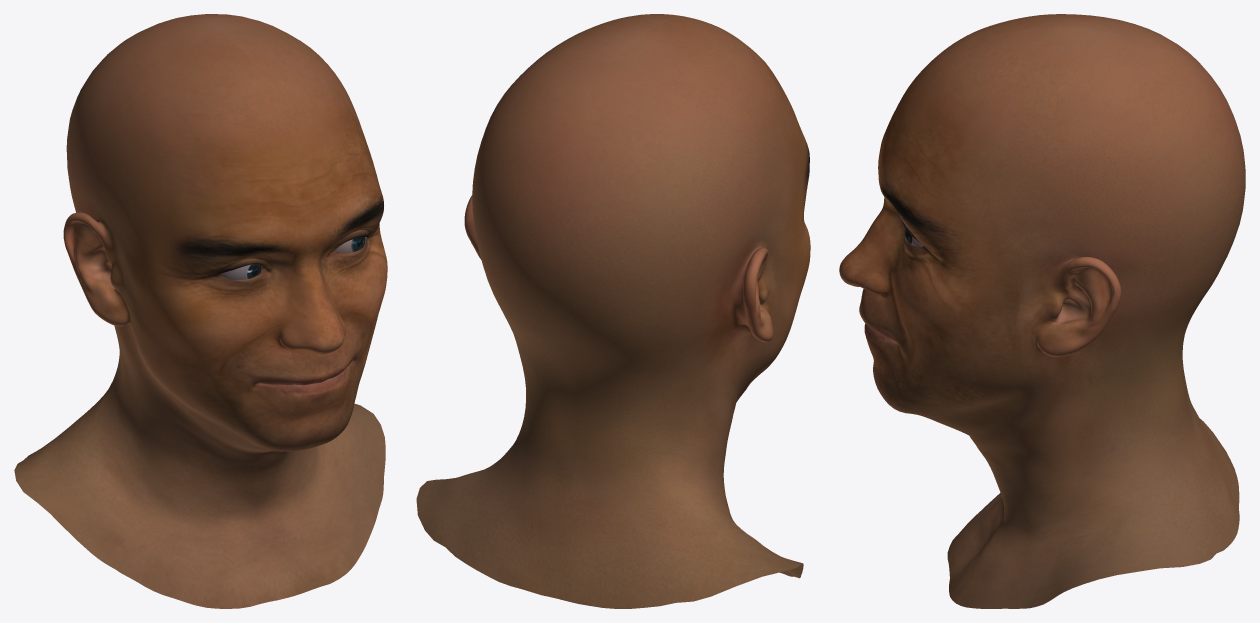
Rendered from full.gltf.
The picture shows the model from 3 angles, left to right: view 1: azimuth 30°, elevation 25°; view 2: azimuth 150°, elevation 25°; view 3: azimuth 270°, elevation 25°; orthographic projection. The views are drawn at different scales.
Parts seen in each view (by area): view 1: Face; view 2: Face; view 3: Face.
Boxes of the visible parts, left/top/right/bottom form: Face: left=14, top=14, right=387, bottom=608; Face: left=416, top=14, right=810, bottom=608; Face: left=839, top=14, right=1245, bottom=608.
Bounding box in the file's own units: 1.27 × 1.84 × 1.24.
Materials: 3 (3 with a texture image).
